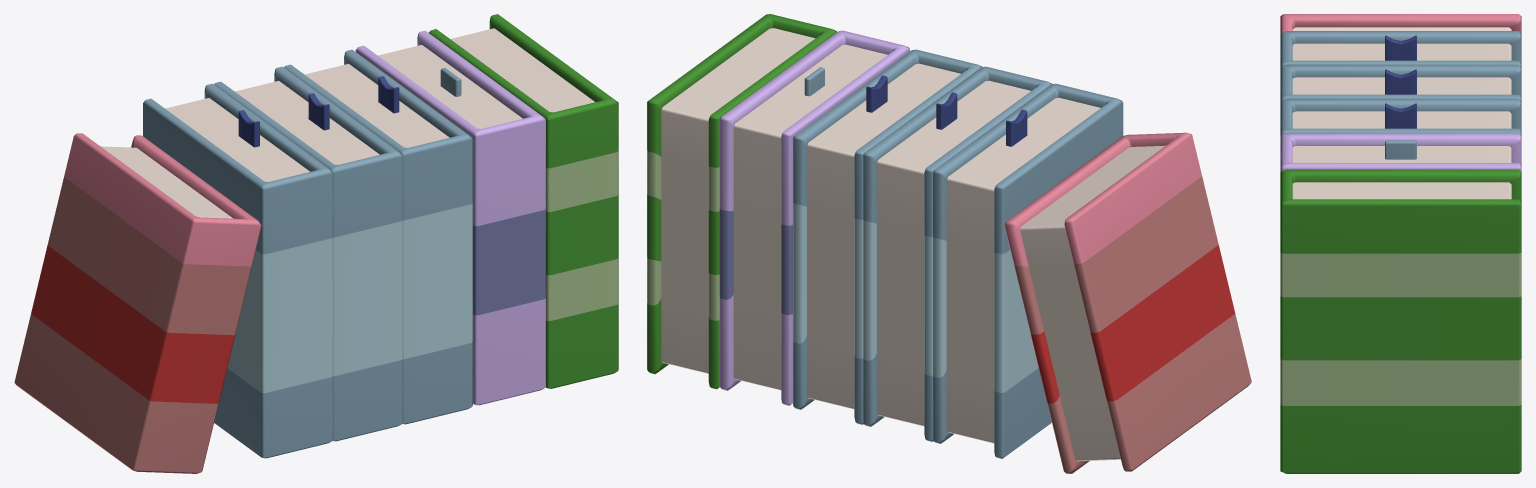
Rendered from Books_8.glb.
3 views of the same model, side by side, from view 1: azimuth 30°, elevation 25°; view 2: azimuth 150°, elevation 25°; view 3: azimuth 270°, elevation 25° (orthographic).
Visible parts, largest first — view 1: Books_8; view 2: Books_8; view 3: Books_8.
Boxes of the visible parts, x1=… form: Books_8: x1=14, y1=14, x2=618, y2=473; Books_8: x1=647, y1=14, x2=1251, y2=473; Books_8: x1=1280, y1=14, x2=1521, y2=473.
Size of the model in its own units: 0.584 by 0.3318 by 0.252.
1 material, 1 textured.
